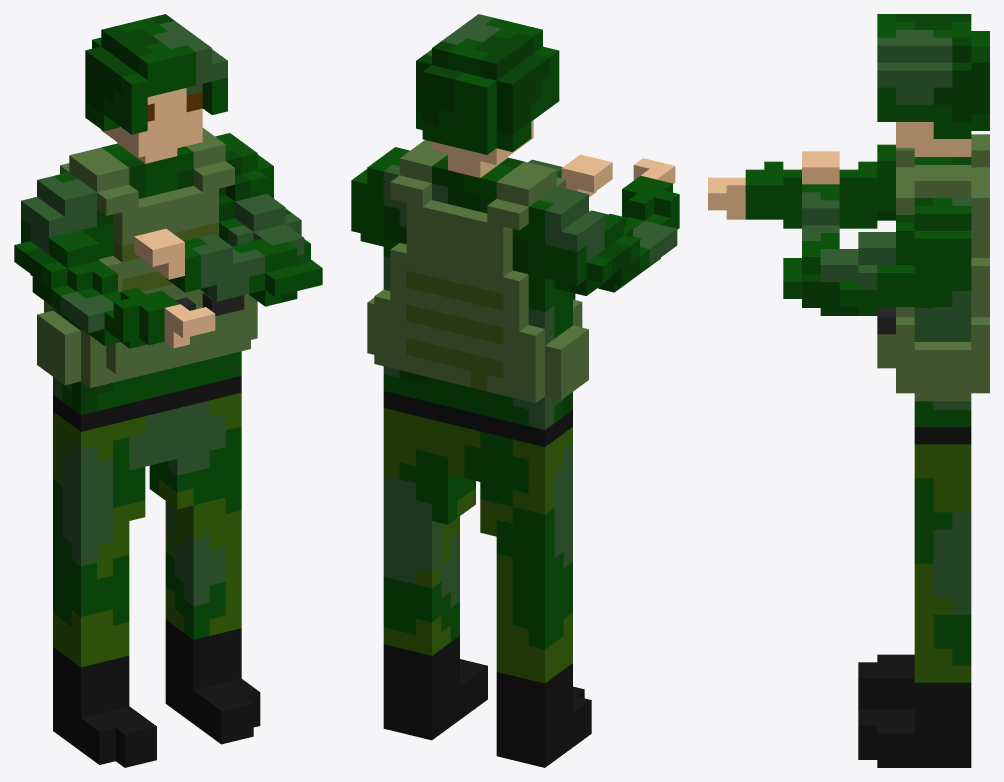
Rendered from sniper_soldier.vox.obj.
3 views of the same model, side by side, from view 1: azimuth 30°, elevation 25°; view 2: azimuth 150°, elevation 25°; view 3: azimuth 270°, elevation 25° (orthographic).
Bounding box in the file's own units: 1.5 × 4.1 × 1.5.
Materials: 1 (1 with a texture image).
